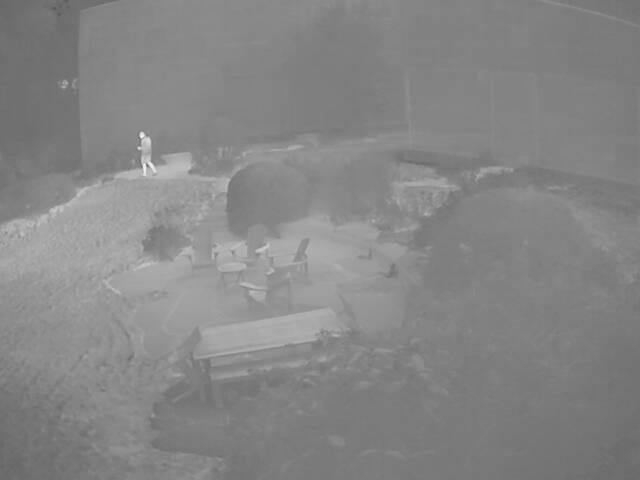person: (136, 129, 159, 178)
